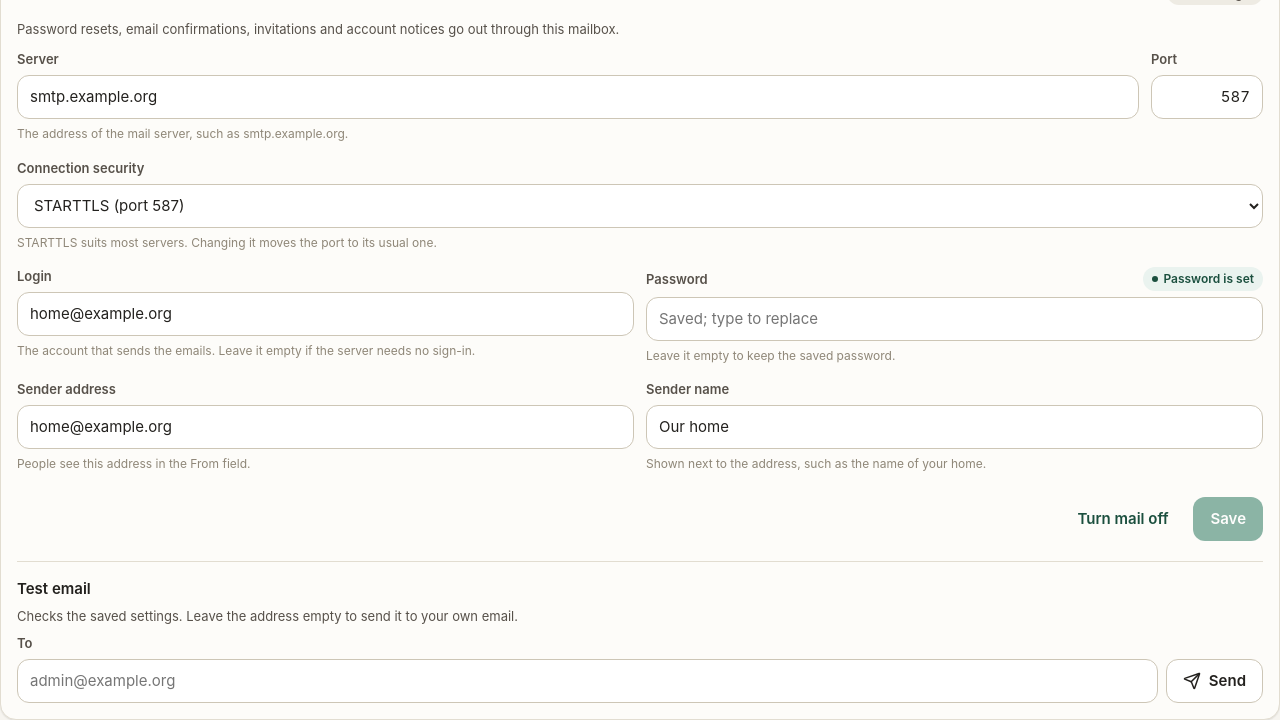
it: MailboxCard › shows the server’s words when the test email fails
(page scrolled)
Type "nobody@example.org" into the field labelled "To" at [587, 681], box [17,659,1158,703]
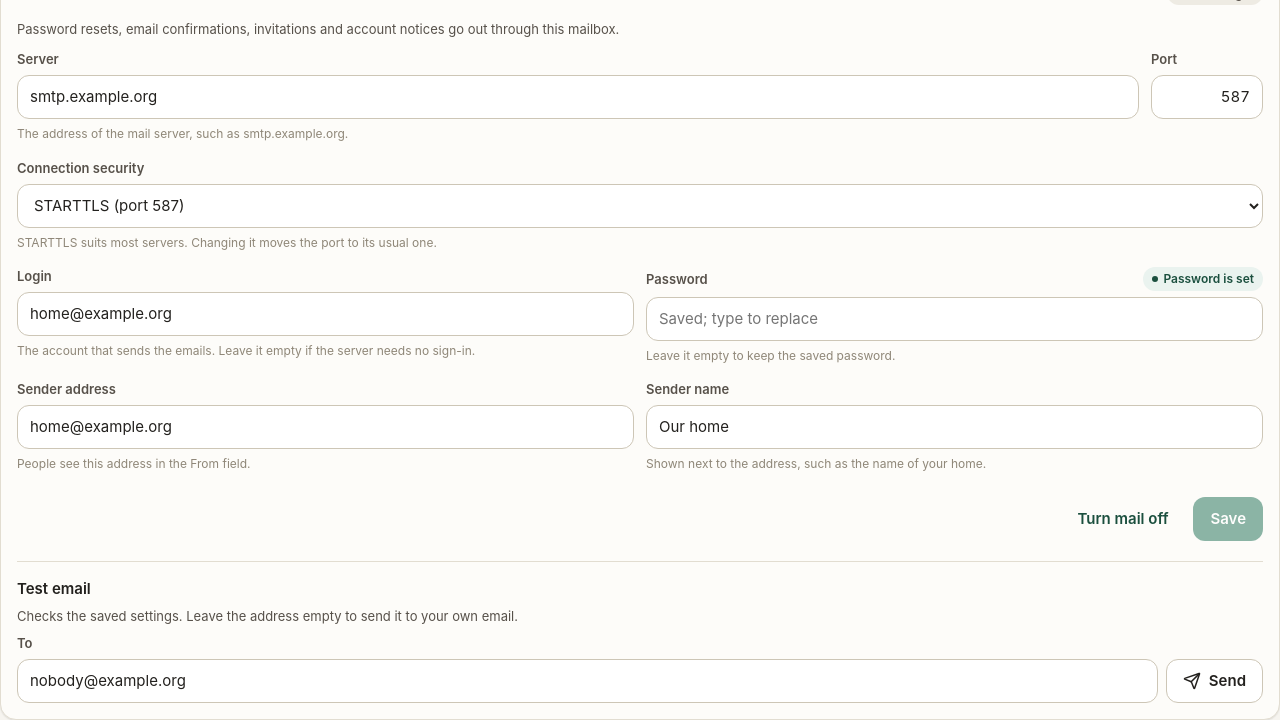
Click the button "Send" at [1214, 681], box [1166,659,1263,703]
(page scrolled)
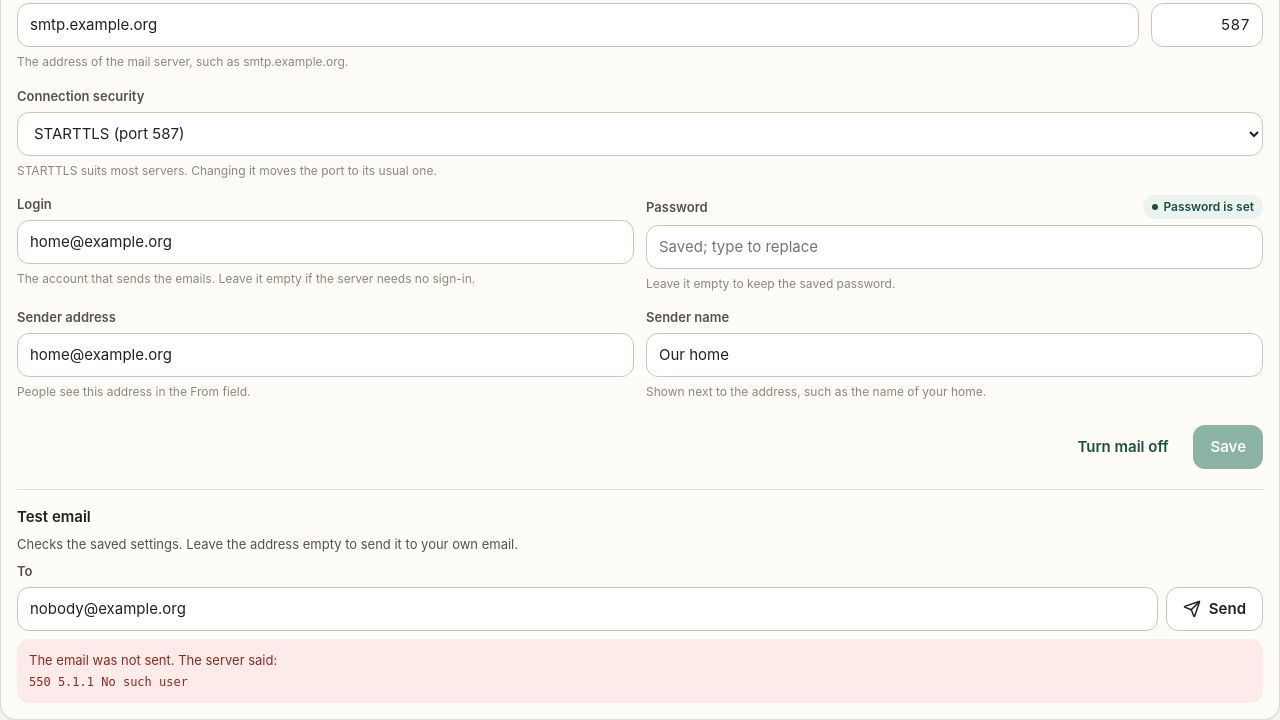
Check: the message shows "The email was not sent. The server said:", box [29,652,277,668]
Check: the text "550 5.1.1 No such user" is shown, box [29,675,188,689]
